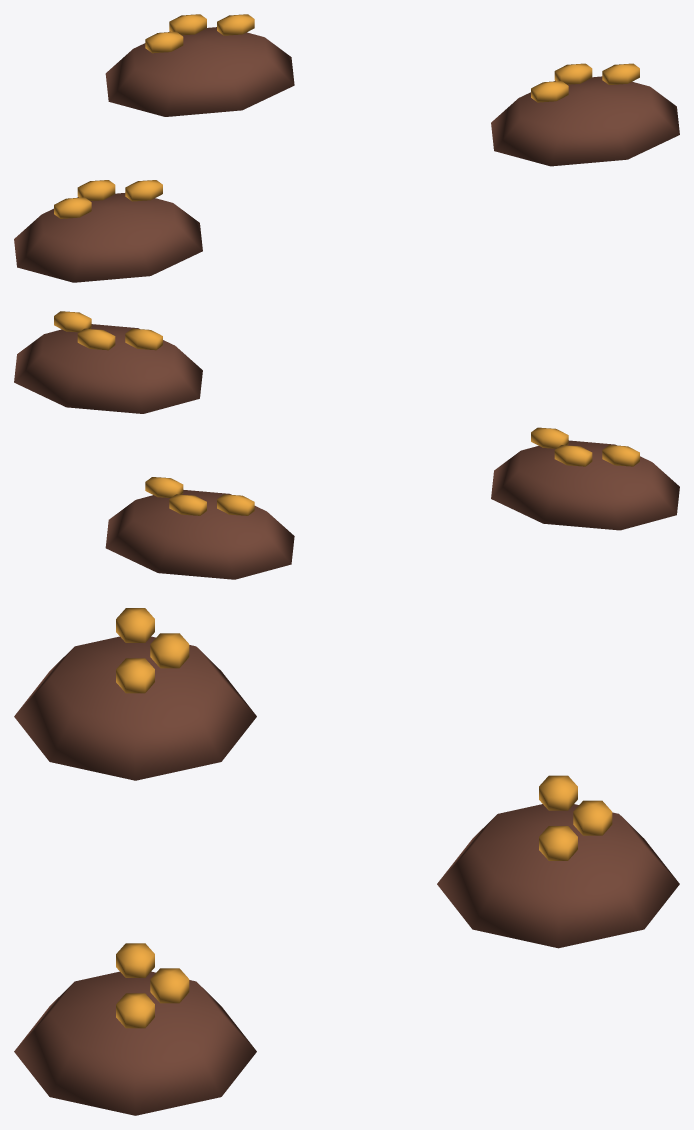
File: stage_0_seed.glb
The picture shows the model from 3 angles, top to bottom: view 1: azimuth 30°, elevation 25°; view 2: azimuth 150°, elevation 25°; view 3: azimuth 270°, elevation 25°; orthographic projection. The views are drawn at different scales.
Parts seen in each view (by area): view 1: 土丘.001, 土丘, 土丘.002, 种子.006, 种子.002, 种子.003, 种子, 种子.008, 种子.005, 种子.004, 种子.001, 种子.007; view 2: 土丘, 土丘.001, 土丘.002, 种子.004, 种子.001, 种子.006, 种子, 种子.003, 种子.007, 种子.008, 种子.005, 种子.002; view 3: 土丘.001, 土丘, 土丘.002, 种子.001, 种子.004, 种子.007, 种子.006, 种子.002, 种子.005, 种子, 种子.003, 种子.008.
Part boxes in pixels (box(x1,y1,x2,y2)): 土丘.001: box(491, 76, 679, 166); 土丘: box(14, 193, 202, 282); 土丘.002: box(105, 27, 294, 116); 种子.006: box(145, 31, 183, 53); 种子.002: box(125, 180, 162, 201); 种子.003: box(531, 81, 568, 102); 种子: box(54, 197, 91, 218); 种子.008: box(217, 14, 254, 35); 种子.005: box(602, 63, 639, 84); 种子.004: box(554, 63, 592, 84); 种子.001: box(77, 180, 115, 200); 种子.007: box(169, 14, 206, 35); 土丘: box(491, 440, 679, 530); 土丘.001: box(14, 324, 202, 413); 土丘.002: box(105, 490, 294, 579); 种子.004: box(77, 328, 115, 350); 种子.001: box(554, 445, 592, 466); 种子.006: box(217, 494, 254, 515); 种子: box(602, 445, 639, 466); 种子.003: box(125, 328, 162, 350); 种子.007: box(169, 494, 206, 515); 种子.008: box(145, 477, 183, 497); 种子.005: box(54, 311, 91, 332); 种子.002: box(531, 427, 568, 448); 土丘.001: box(14, 971, 256, 1115); 土丘: box(14, 636, 256, 780); 土丘.002: box(437, 804, 679, 948); 种子.001: box(150, 633, 189, 668); 种子.004: box(150, 968, 189, 1003); 种子.007: box(573, 800, 612, 835); 种子.006: box(539, 775, 577, 810); 种子.002: box(116, 658, 154, 693); 种子.005: box(116, 993, 154, 1028); 种子: box(116, 608, 154, 642); 种子.003: box(116, 943, 154, 977); 种子.008: box(539, 826, 577, 860).
Bounding box in the file's own units: 0.83 × 0.066 × 0.504.
Materials: 1 (1 with a texture image).
